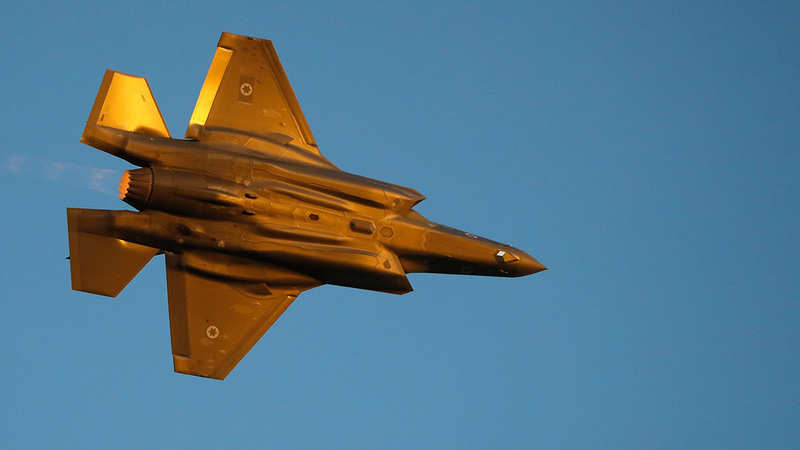F-35 Lightning: (49, 27, 555, 385)
